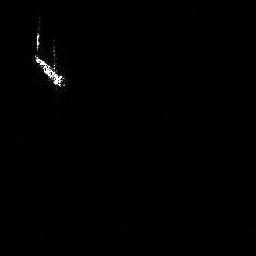ship: (30, 53, 69, 89)
